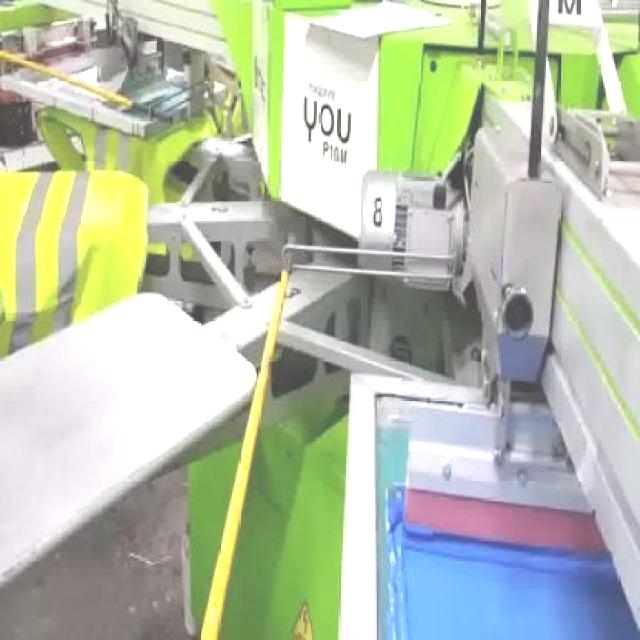Mask: (1, 170, 150, 362)
